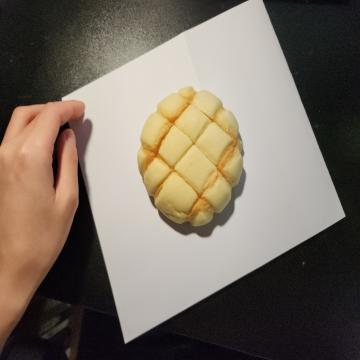melon_bread: (138, 88, 244, 230)
